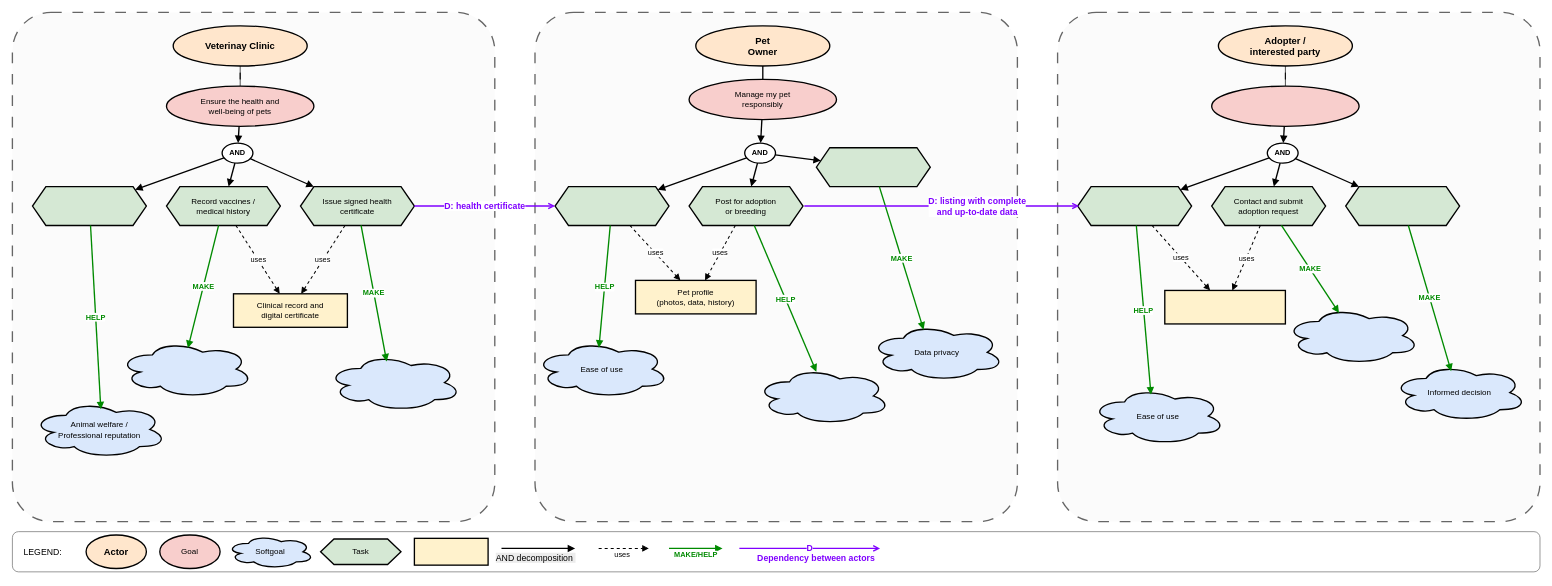
Some shapes in this 1552 by 586 pixel diagram are drawn without their labels. Each missing label, with the centre of its shape:
"Attend clinical consultation" belongs at point (89, 206).
"Authenticity and traceability" belongs at point (394, 382).
"Catalog and request form" belongs at point (1225, 306).
"Control visibility of my data" belongs at point (873, 167).
"Find and adopt a suitable pet" belongs at point (1285, 106).
"Register and manage pet profile" belongs at point (611, 206).
"Reliable information" belongs at point (185, 369).
"Resource" belongs at point (450, 551).
"Responsible adoption / breeding" belongs at point (822, 395).
"Search and review listings" belongs at point (1134, 206).
"Secure interaction" belongs at point (1352, 335).
"Verify veterinarian's certificate" belongs at point (1402, 206).
